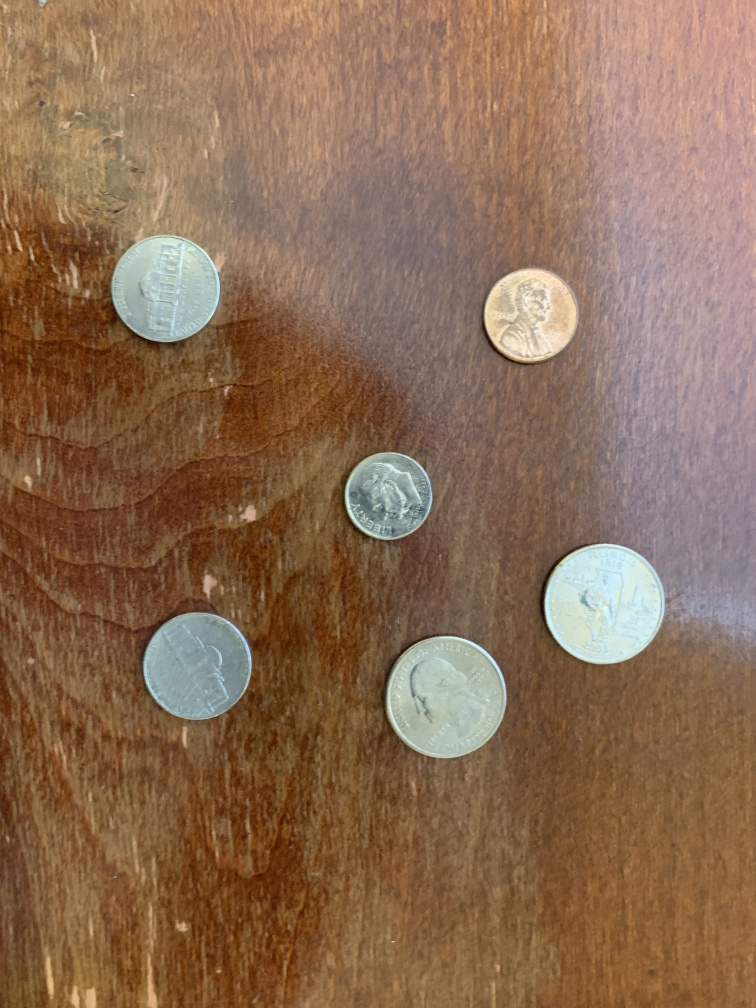dime: (341, 444, 436, 551)
nickel: (100, 228, 229, 353), (138, 604, 258, 725)
penny: (475, 265, 581, 369)
quarter: (379, 629, 510, 779), (536, 535, 670, 678)
